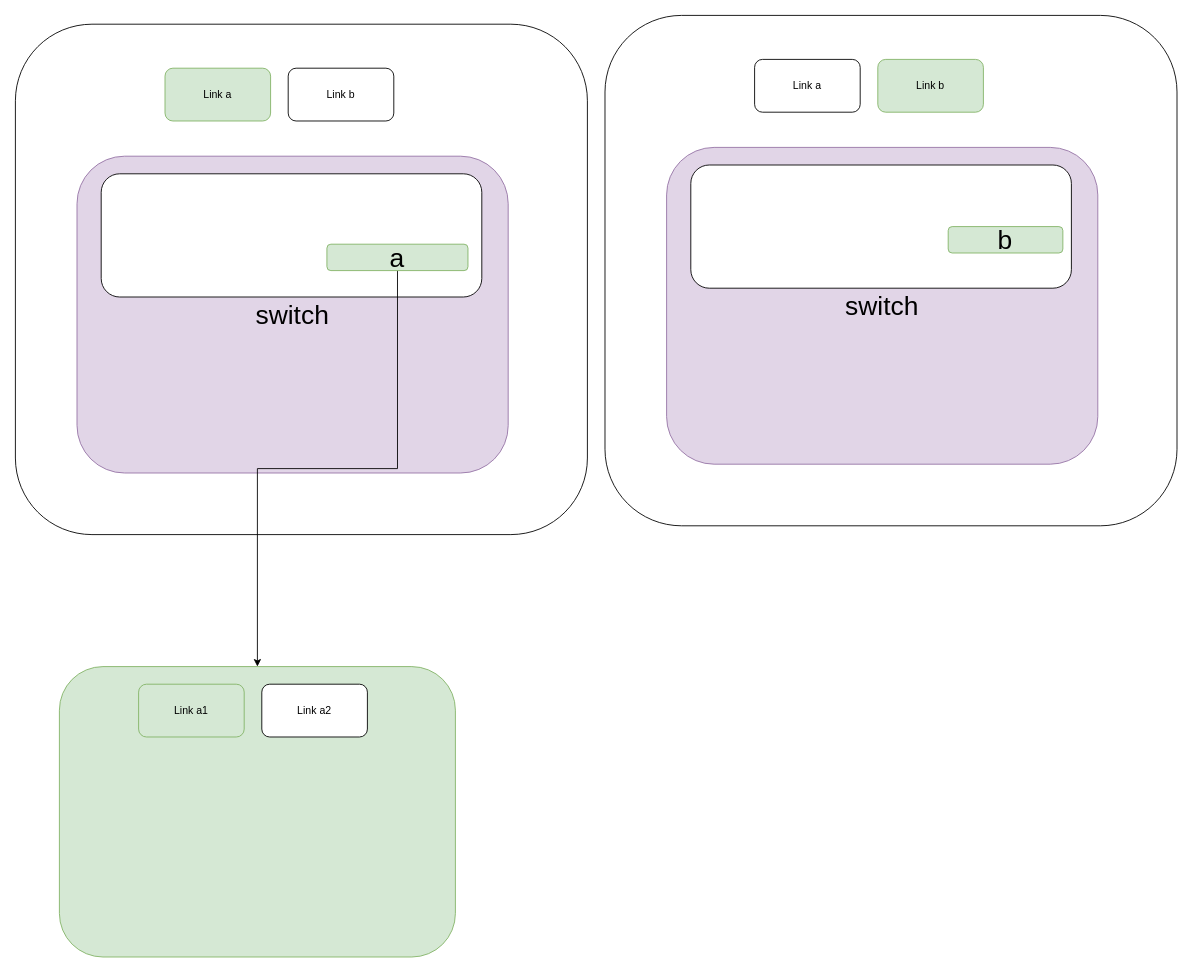
This 1192x972 diagram has some shape labels left out. Each missing label, with the box of its shape:
a1: (59, 666, 455, 957)
Route=a Element = a: (100, 173, 482, 297)
Route=b Element =: (690, 164, 1071, 288)
